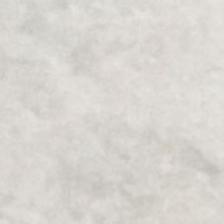Non_Crack: (18, 8, 213, 224)
